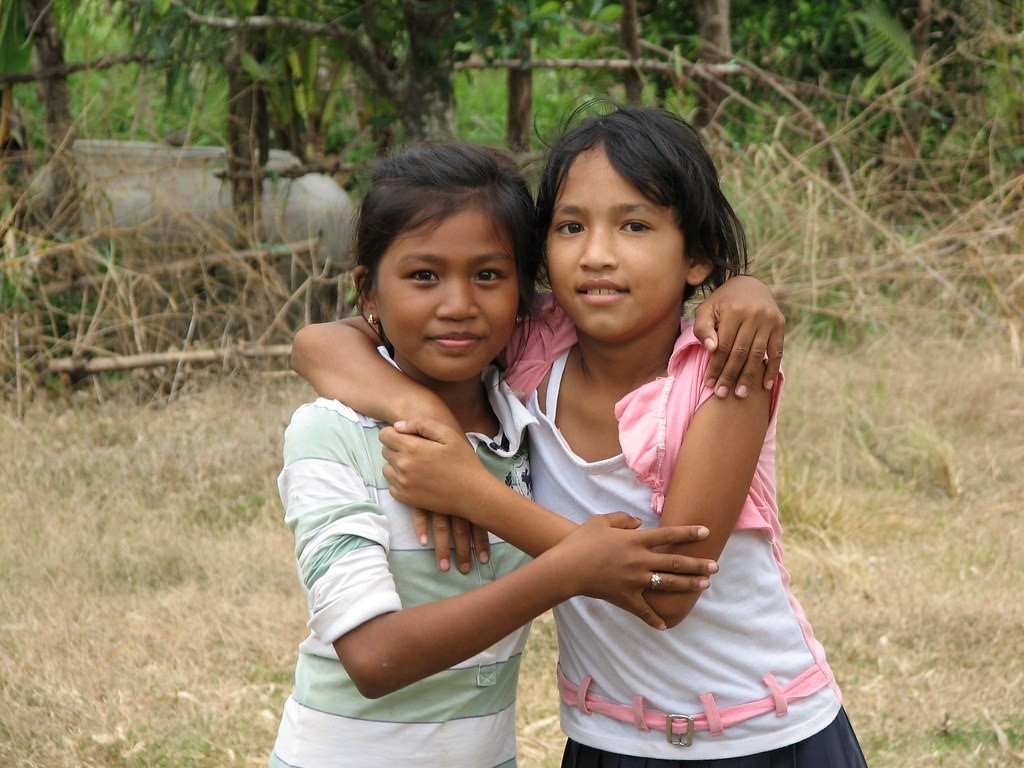face_no_mask: (540, 116, 721, 347), (357, 158, 529, 386)
